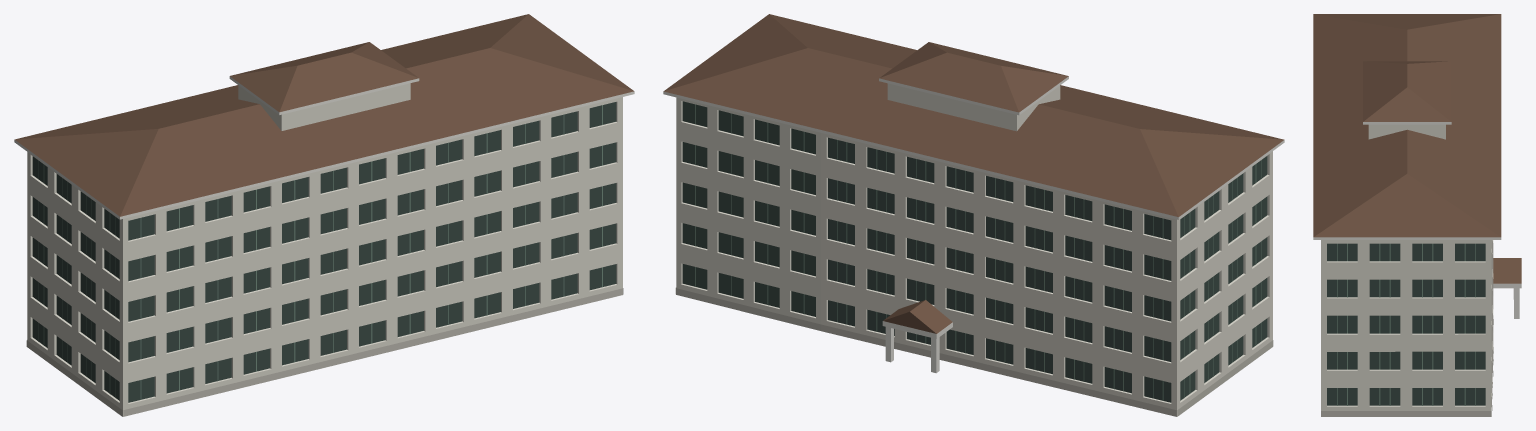
The picture shows the model from 3 angles, left to right: view 1: azimuth 30°, elevation 25°; view 2: azimuth 150°, elevation 25°; view 3: azimuth 270°, elevation 25°; orthographic projection. The views are drawn at different scales.
Parts seen in each view (by area): view 1: gradSchool__wall, gradSchool__roofAccent, gradSchool__glass, gradSchool__base, gradSchool__frame, gradSchool__trim; view 2: gradSchool__wall, gradSchool__roofAccent, gradSchool__glass, gradSchool__base, gradSchool__frame, gradSchool__trim, gradSchool__column; view 3: gradSchool__roofAccent, gradSchool__wall, gradSchool__glass, gradSchool__frame, gradSchool__base, gradSchool__trim.
Part boxes in pixels (left/top/right/bottom): gradSchool__wall: left=27, top=83, right=622, bottom=416; gradSchool__roofAccent: left=15, top=14, right=633, bottom=216; gradSchool__glass: left=32, top=102, right=616, bottom=402; gradSchool__base: left=26, top=288, right=623, bottom=416; gradSchool__frame: left=38, top=105, right=602, bottom=399; gradSchool__trim: left=14, top=76, right=634, bottom=219; gradSchool__wall: left=676, top=83, right=1272, bottom=416; gradSchool__roofAccent: left=663, top=14, right=1284, bottom=333; gradSchool__glass: left=682, top=101, right=1267, bottom=402; gradSchool__base: left=675, top=287, right=1273, bottom=416; gradSchool__frame: left=695, top=104, right=1261, bottom=400; gradSchool__trim: left=663, top=76, right=1284, bottom=338; gradSchool__column: left=885, top=327, right=939, bottom=373; gradSchool__roofAccent: left=1313, top=14, right=1521, bottom=283; gradSchool__wall: left=1321, top=124, right=1493, bottom=410; gradSchool__glass: left=1327, top=243, right=1485, bottom=405; gradSchool__frame: left=1337, top=243, right=1475, bottom=405; gradSchool__base: left=1321, top=319, right=1493, bottom=416; gradSchool__trim: left=1313, top=122, right=1521, bottom=288.
Size of the model in its own units: 47.8 by 23.2 by 18.85.
